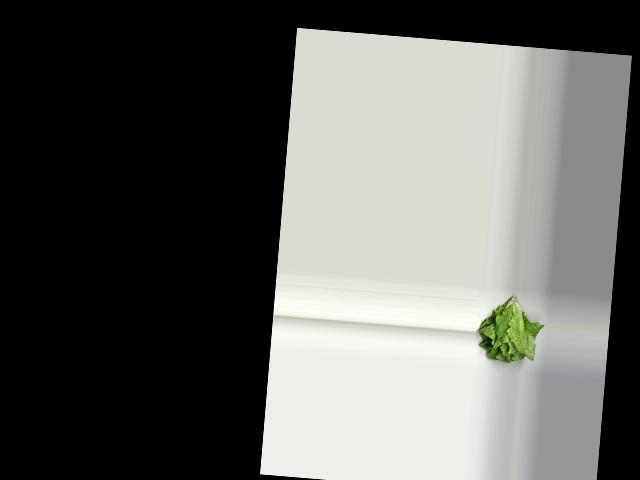lettuce: (475, 291, 545, 365)
